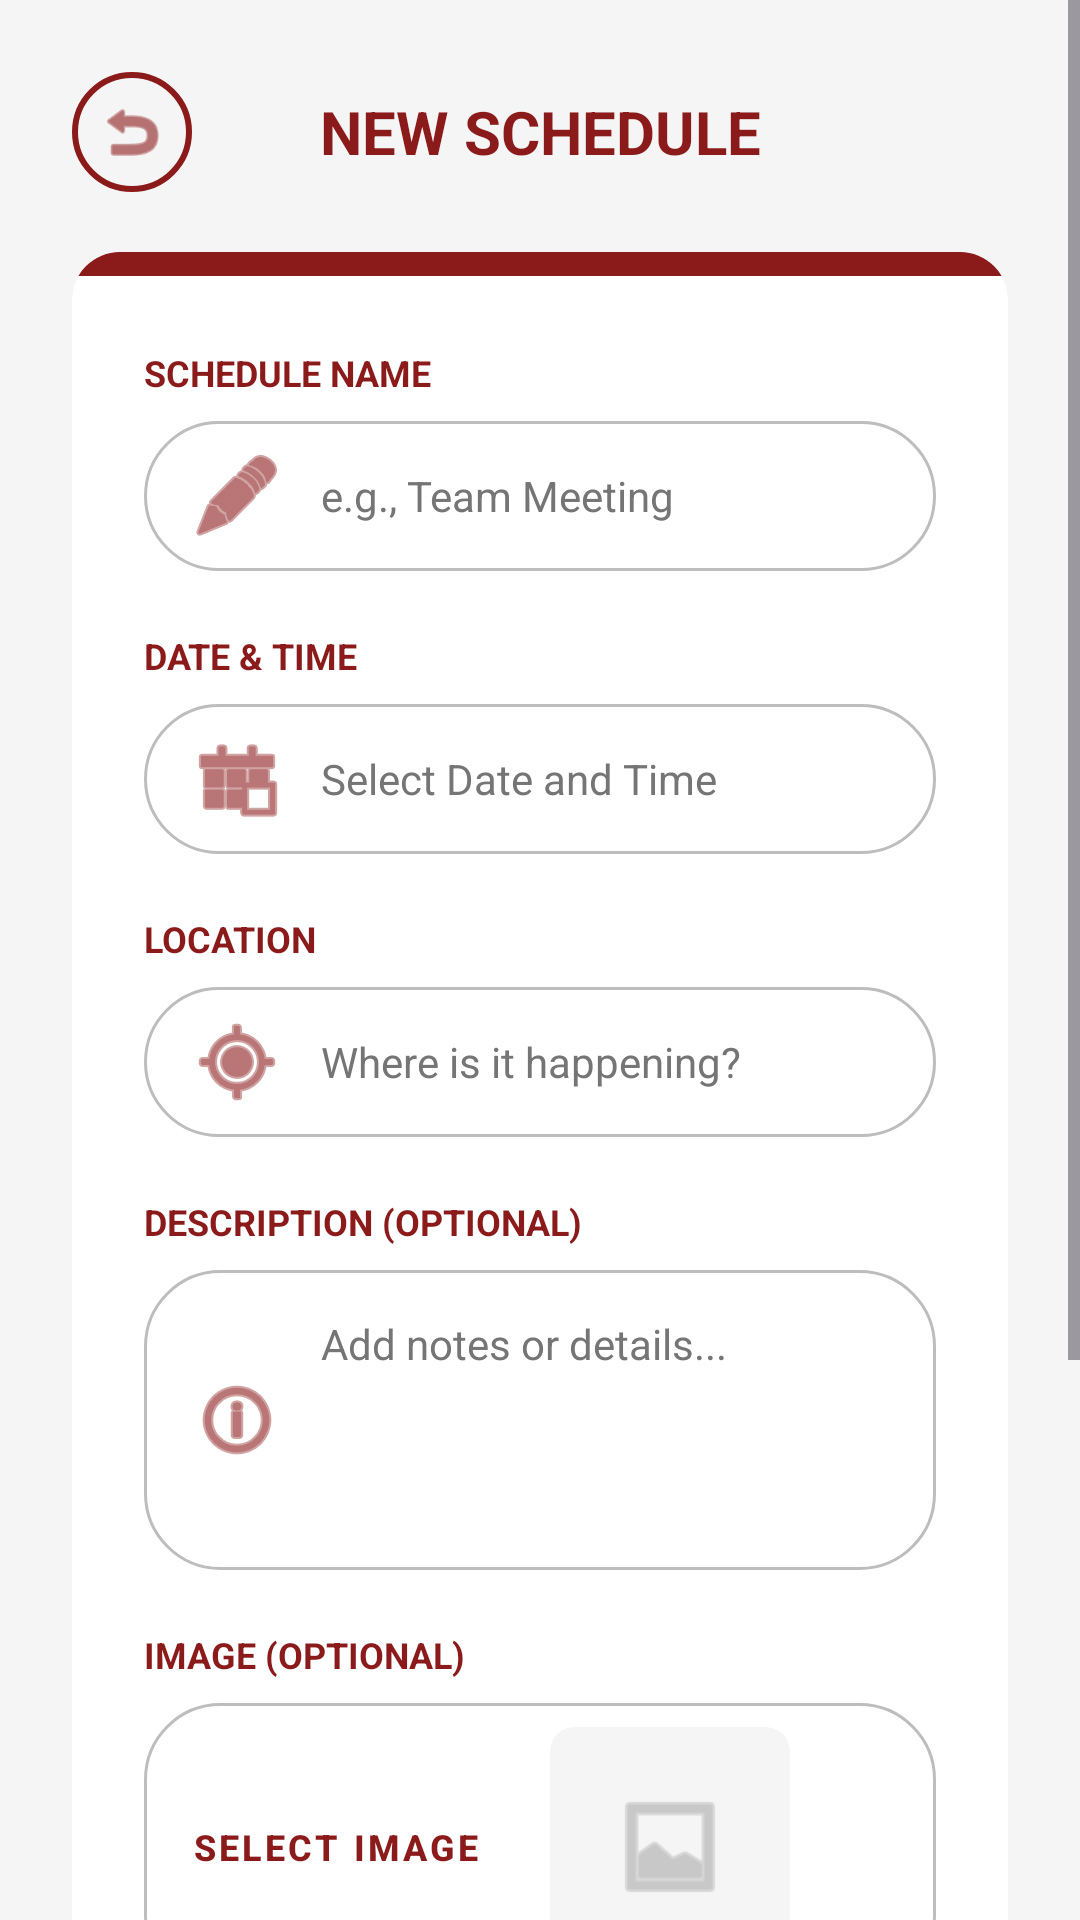

Named icons in this screenshot (1080px×1920px) and their centers, point (x, y):
revert: point (132, 132)
